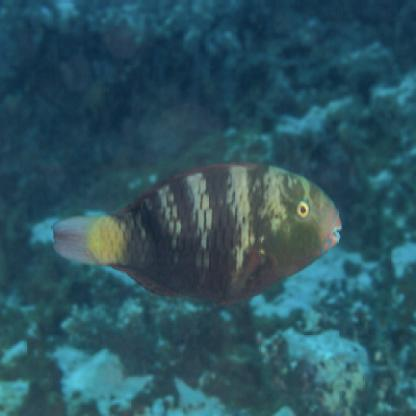Bio: (48, 158, 346, 308)
